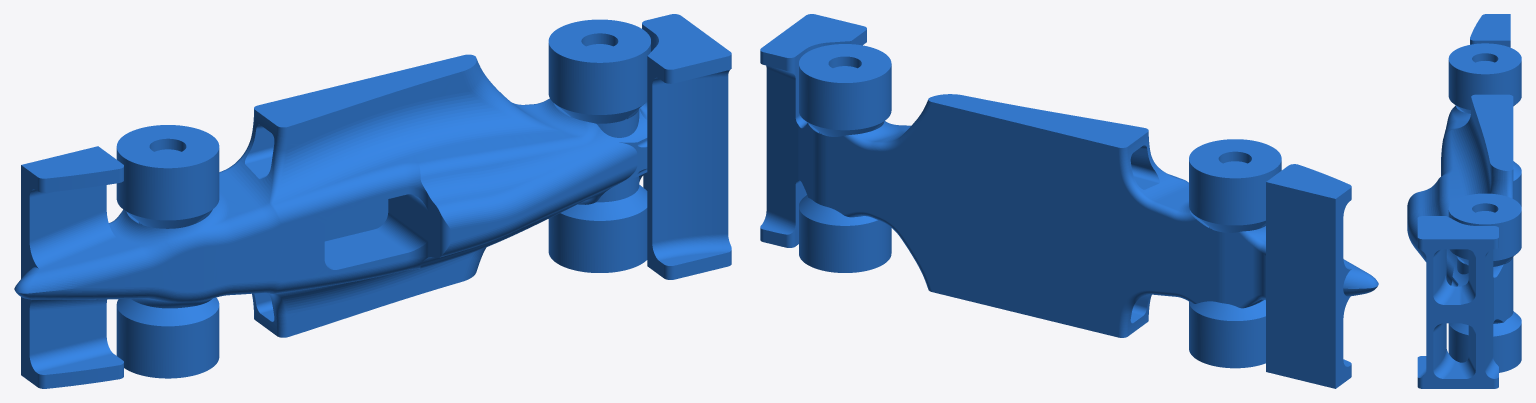
Rendered from race-car-mini.glb.
The picture shows the model from 3 angles, left to right: view 1: azimuth 30°, elevation 25°; view 2: azimuth 150°, elevation 25°; view 3: azimuth 270°, elevation 25°; orthographic projection. The views are drawn at different scales.
Parts seen in each view (by area): view 1: Object_1_fil1; view 2: Object_1_fil1; view 3: Object_1_fil1.
Part boxes in pixels (<box>): Object_1_fil1: <box>14,14,731,388</box>; Object_1_fil1: <box>760,14,1378,388</box>; Object_1_fil1: <box>1407,14,1521,388</box>.
Bounding box in the file's own units: 0.0503 × 0.015 × 0.0104.
